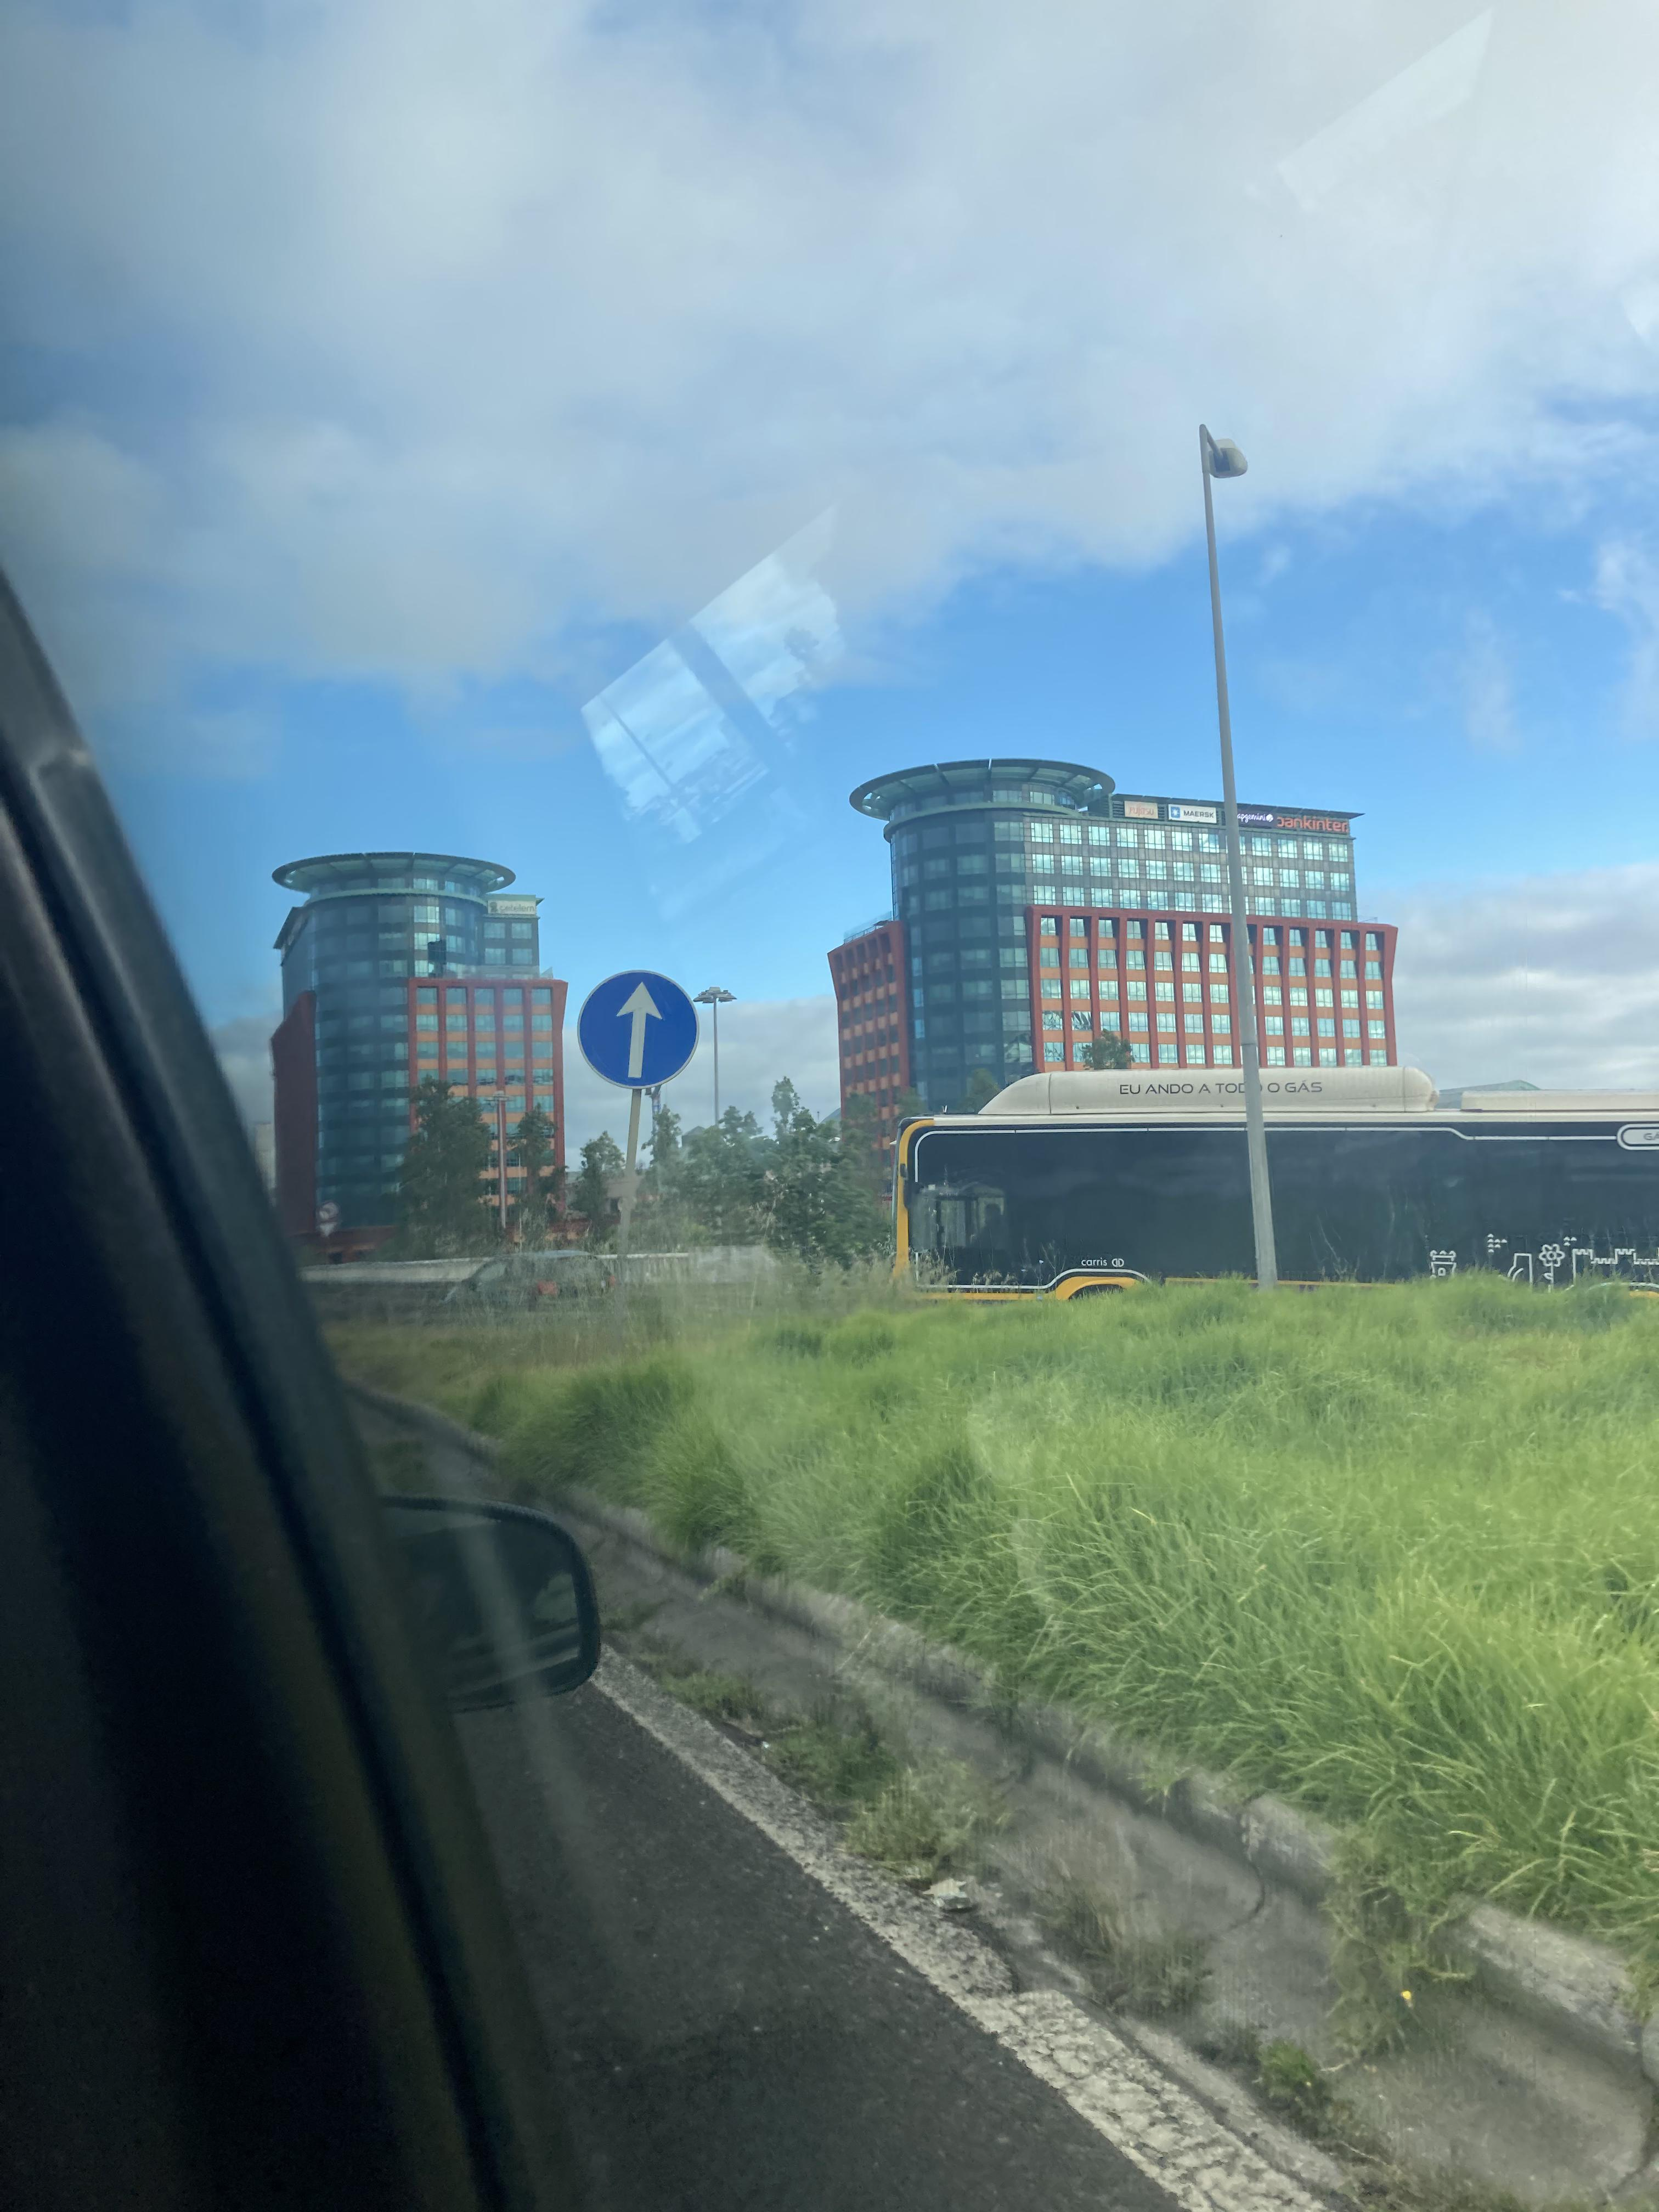sentido obrigatorio: (592, 972, 692, 1092)
